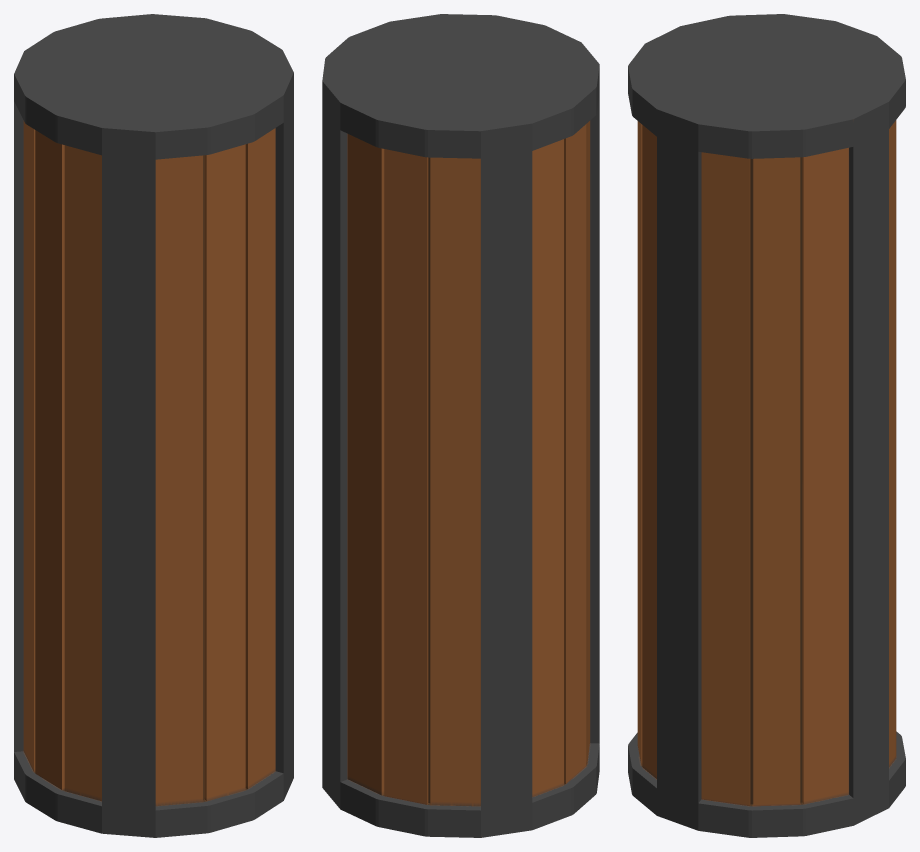
The model's file is CylinderClear.fbx.
3 renders of one model, left to right at view 1: azimuth 30°, elevation 25°; view 2: azimuth 150°, elevation 25°; view 3: azimuth 270°, elevation 25°, orthographic.
Parts seen in each view (by area): view 1: CylinderDegrees.002; view 2: CylinderDegrees.002; view 3: CylinderDegrees.002.
Boxes of the visible parts, box(x1,y1,x2,y2) form: CylinderDegrees.002: box(14, 14, 293, 837); CylinderDegrees.002: box(322, 14, 599, 837); CylinderDegrees.002: box(628, 14, 905, 837).
Size of the model in its own units: 219 by 614 by 219.
